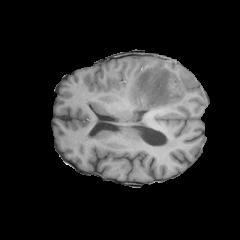glioma: (118, 60, 195, 111)
